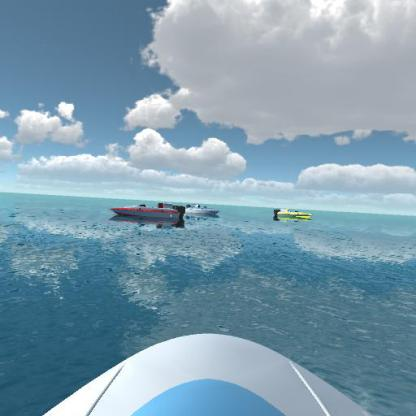usv1: (180, 198, 219, 219)
usv2: (269, 205, 316, 226)
usv3: (105, 198, 185, 228)
